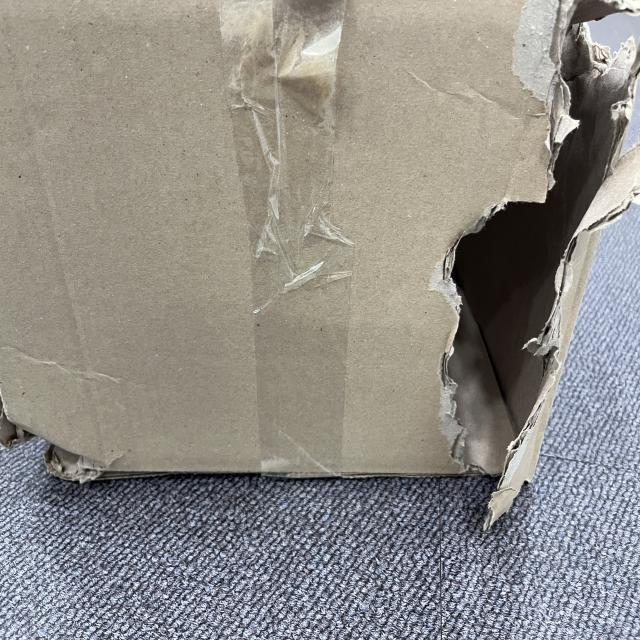hole: (442, 1, 635, 487)
